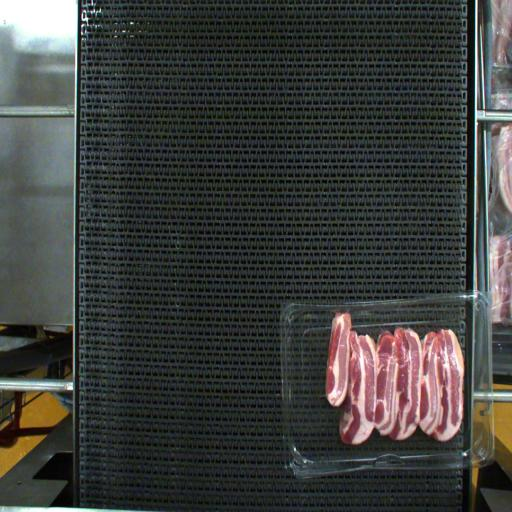packaging-error: (325, 290, 353, 416)
